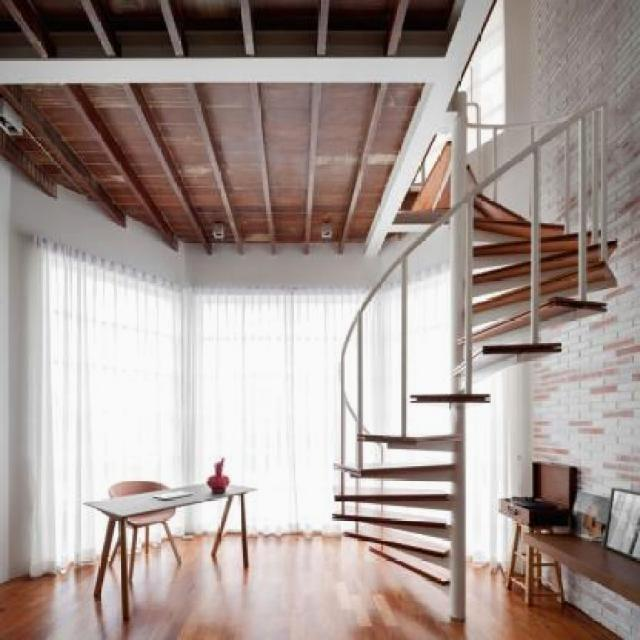stair: (323, 160, 592, 578)
